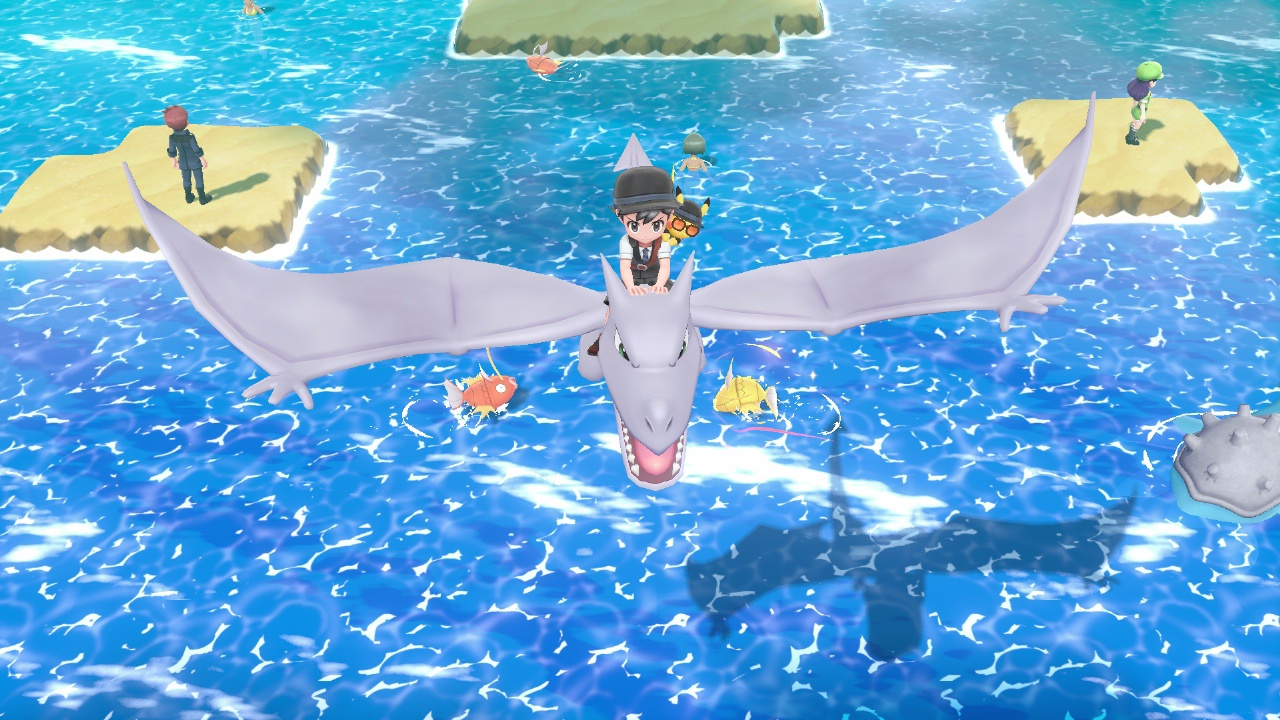Golden: (713, 357, 779, 420)
